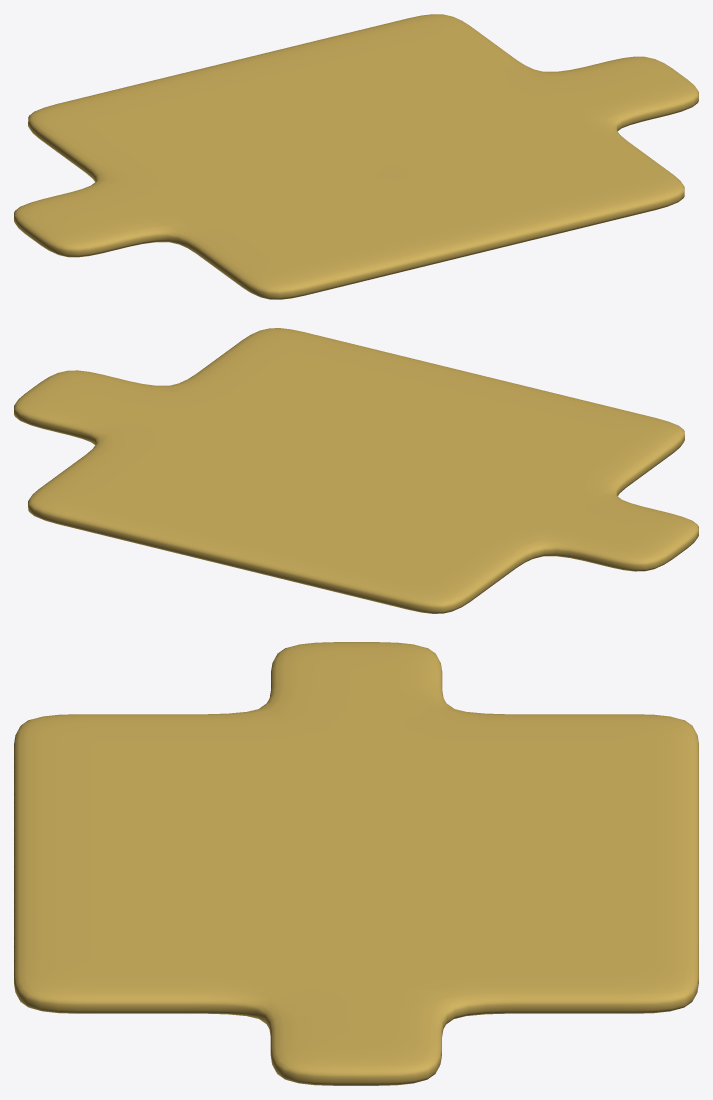
Rendered from GoldenPuzzle-14-OMOM.fbx.
3 views of the same model, one above another, from view 1: azimuth 30°, elevation 25°; view 2: azimuth 150°, elevation 25°; view 3: azimuth 270°, elevation 25° (orthographic). The views are drawn at different scales.
Parts seen in each view (by area): view 1: Puzzle_014; view 2: Puzzle_014; view 3: Puzzle_014.
Part boxes in pixels (box(x1,y1,x2,y2)): Puzzle_014: box(14, 14, 698, 299); Puzzle_014: box(14, 328, 698, 613); Puzzle_014: box(14, 642, 698, 1085).
Size of the model in its own units: 0.375 by 0.00924 by 0.251.
